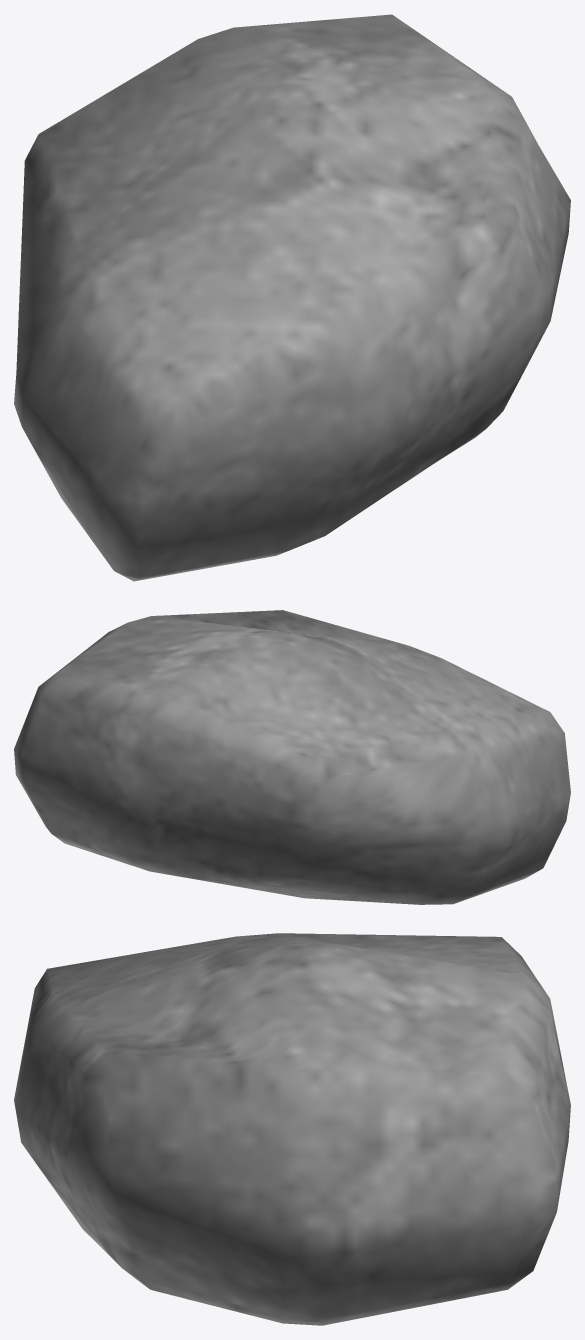
Rendered from Stone02.fbx.
The picture shows the model from 3 angles, top to bottom: view 1: azimuth 30°, elevation 25°; view 2: azimuth 150°, elevation 25°; view 3: azimuth 270°, elevation 25°; orthographic projection. The views are drawn at different scales.
Parts seen in each view (by area): view 1: Stone02_LOD0; view 2: Stone02_LOD0; view 3: Stone02_LOD0.
Part boxes in pixels (left/top/right/bottom): Stone02_LOD0: left=14, top=14, right=570, bottom=581; Stone02_LOD0: left=14, top=610, right=570, bottom=904; Stone02_LOD0: left=14, top=933, right=570, bottom=1325.
Size of what is drawn, in the model's own units: 1.03 by 0.6105 by 0.887.
